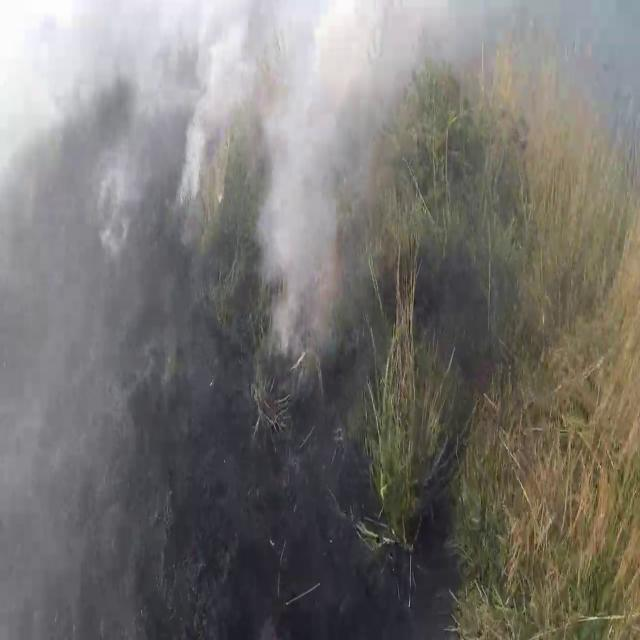Smoke: (0, 0, 424, 380)
